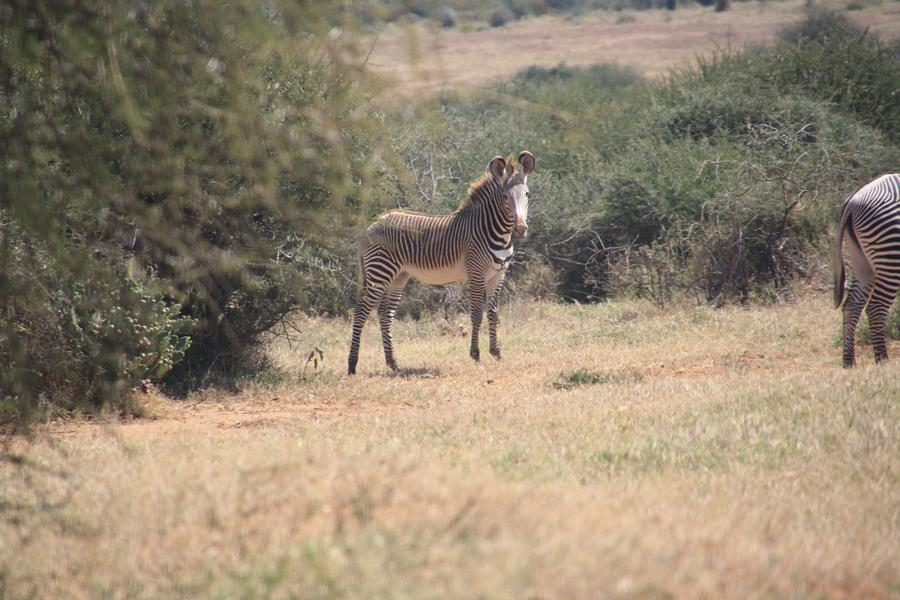zebra_grevys: (357, 200, 499, 277)
